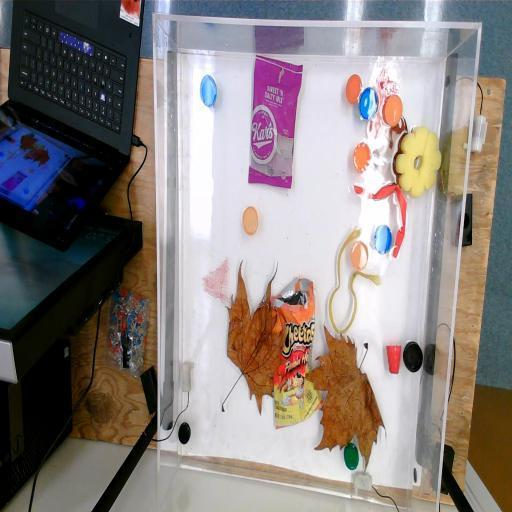Bottle Cap: (382, 93, 404, 126), (358, 86, 378, 120), (350, 238, 370, 272), (404, 340, 424, 374), (352, 140, 372, 172), (200, 74, 218, 108), (374, 222, 392, 256), (242, 204, 259, 236), (346, 73, 363, 105), (344, 440, 360, 472), (178, 421, 191, 445)
Cone Cap: (386, 342, 402, 376)
Leaf: (304, 323, 389, 476), (220, 258, 288, 416), (372, 110, 410, 186)
Netting: (368, 67, 402, 140), (202, 256, 231, 307)
Plastic Bag: (269, 274, 322, 431), (248, 54, 304, 190)
Plastic Strand: (328, 226, 381, 334), (352, 182, 408, 262)
Sponge: (395, 124, 442, 196)
